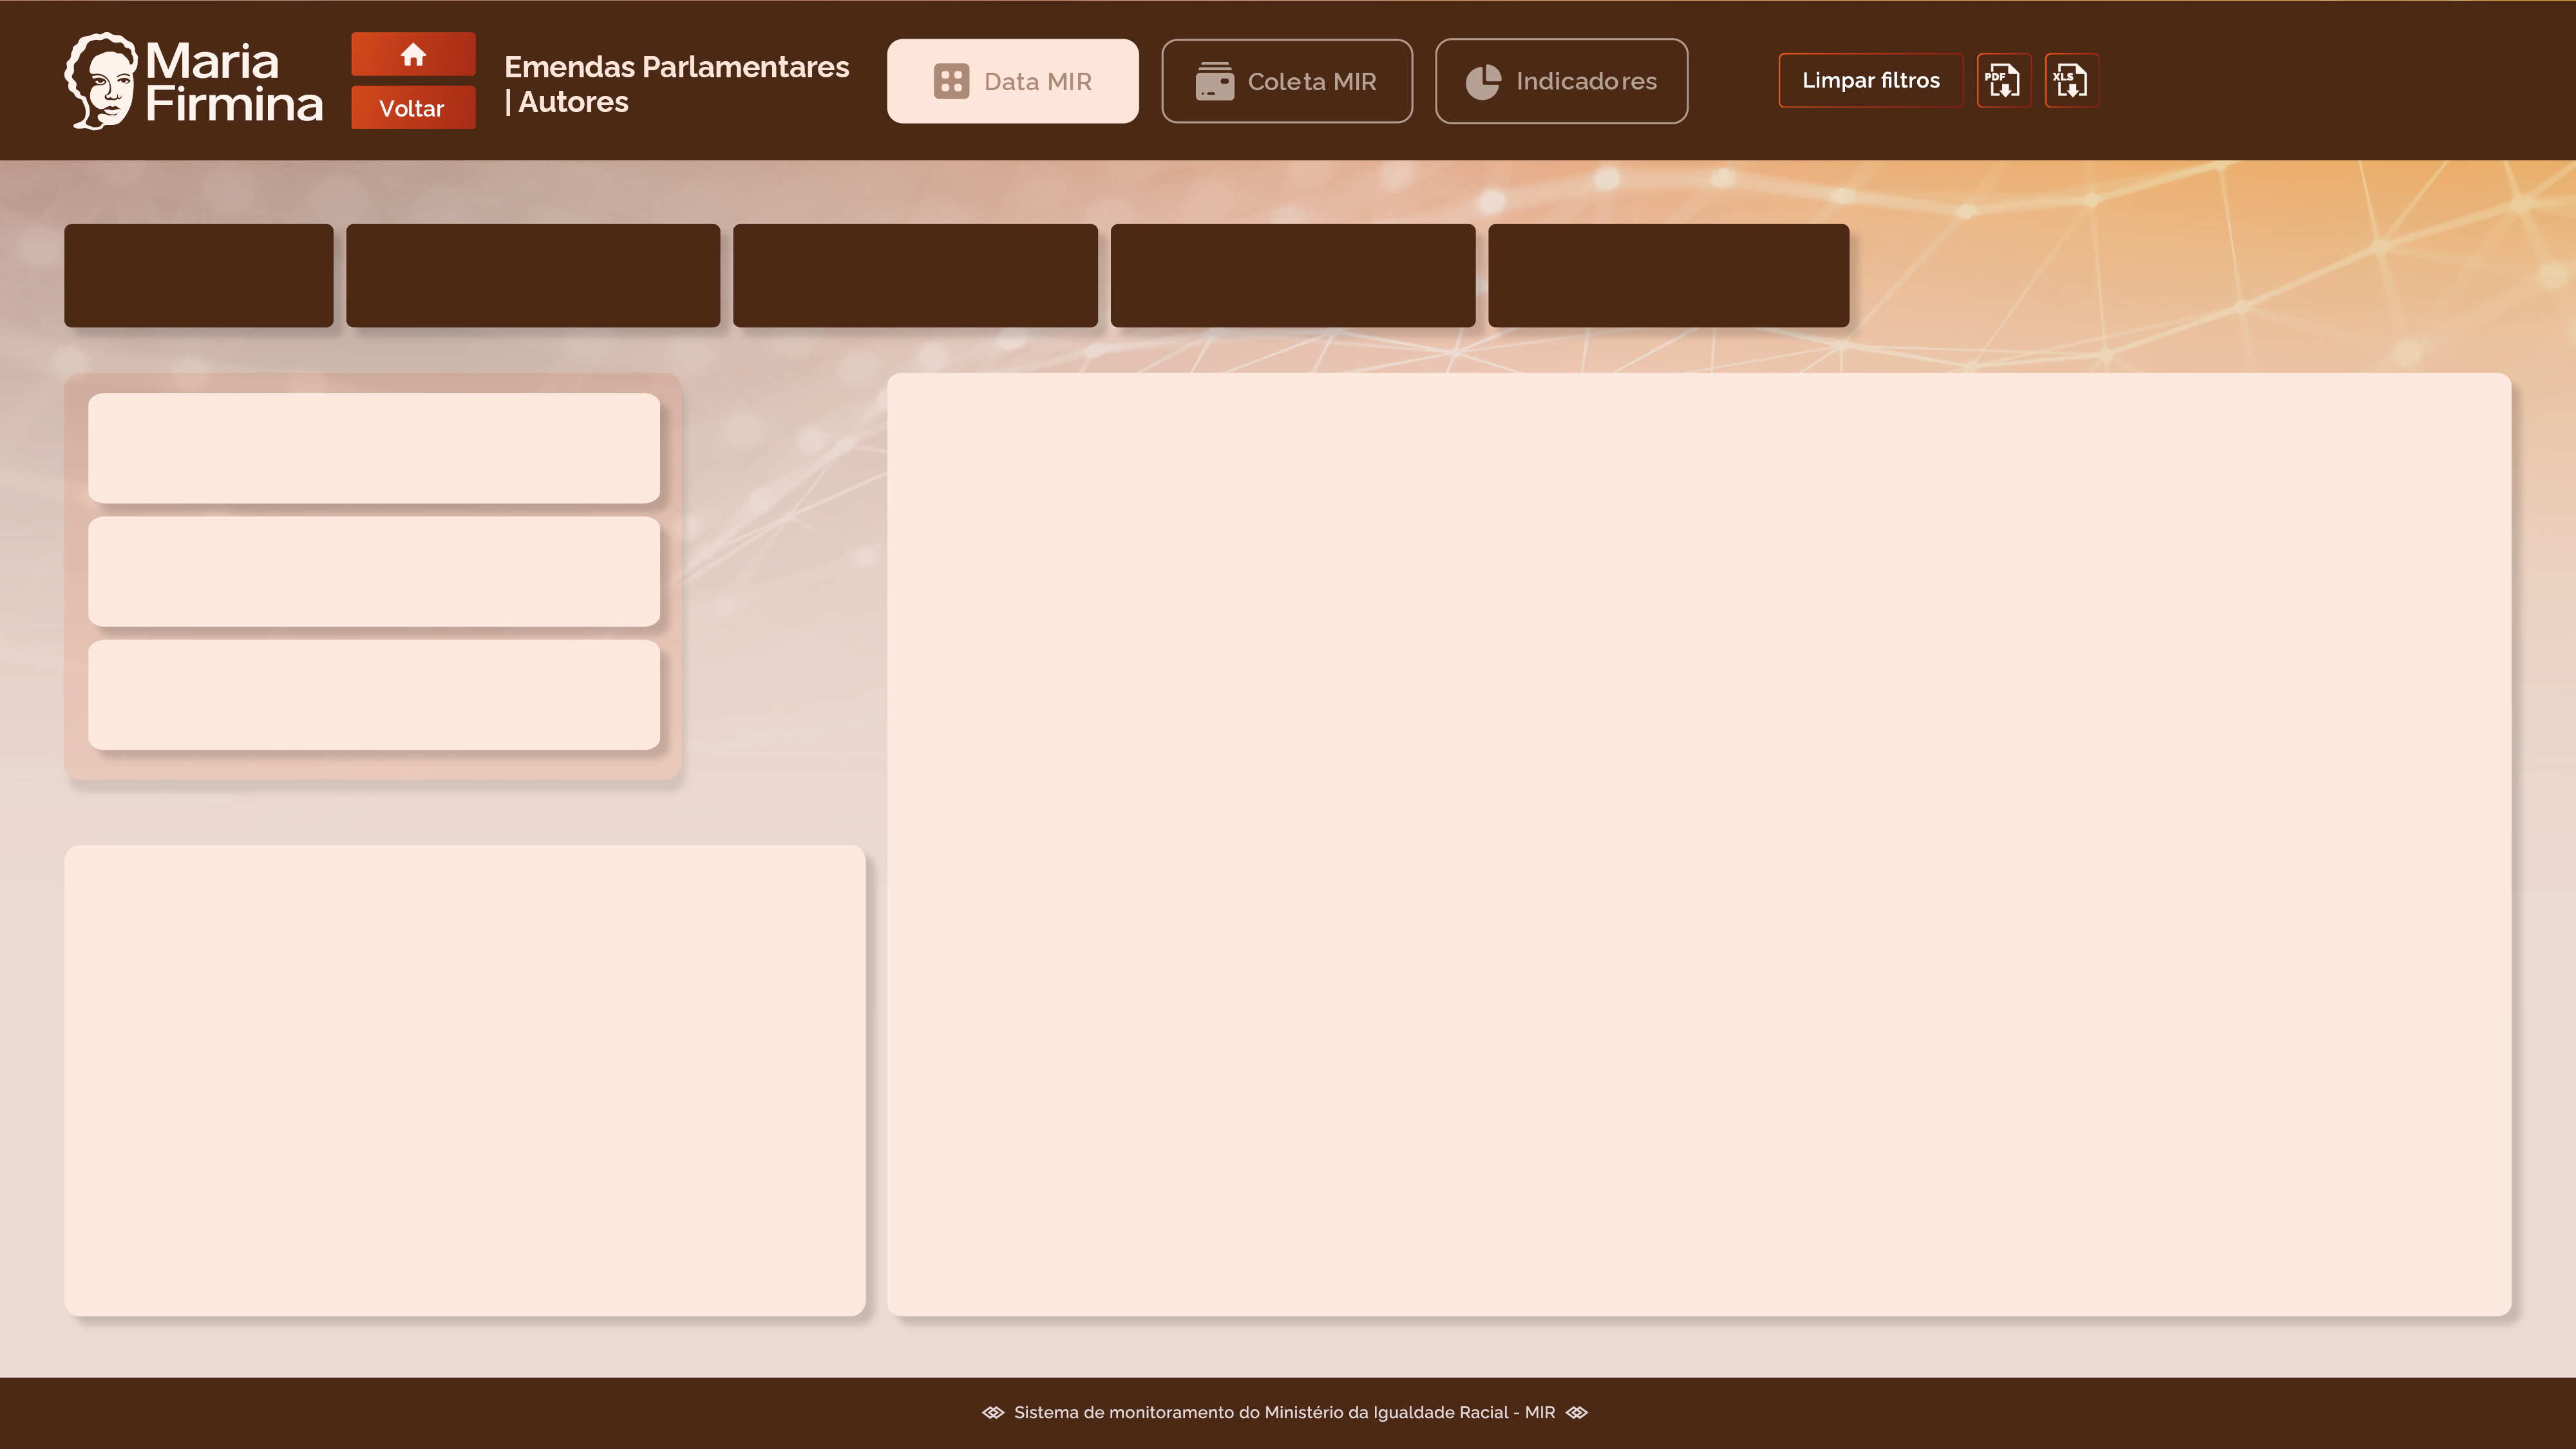

What the dashboard file says about the page in this screenshot:
{"tool":"powerbi","page":{"name":"Emendas Detalhamento","canvas":[1920,1080],"ordinal":7},"visuals":[{"type":"cardVisual","fields":{"Data":["Sum(emendas_execucao.despesas_empenhadas)"]},"box":[437.5,168.5,217.1,72.9],"z":0},{"type":"cardVisual","fields":{"Data":["Sum(emendas_execucao.despesas_liquidadas)"]},"box":[676.1,168.5,207.1,72.9],"z":1000},{"type":"cardVisual","fields":{"Data":["Sum(emendas_execucao.despesas_pagas)"]},"box":[904.6,168.5,210,72.9],"z":2000},{"type":"slicer","fields":{"Values":["emendas_execucao.ne_ccor_ano_emissao"]},"box":[64.3,288.6,301.4,71.4],"z":3000},{"type":"slicer","fields":{"Values":["emendas_execucao.autor_emendas_orcamento_nome"]},"box":[62.9,391.4,302.9,70],"z":4000},{"type":"slicer","fields":{"Values":["emendas_execucao.cargo_autor"]},"box":[62.9,484.3,302.9,68.6],"z":5000},{"type":"slicer","fields":{"Values":["emendas_execucao.codigo+acaoajustada"]},"box":[64.3,192.9,301.4,78.6],"z":6000},{"type":"tableEx","fields":{"Values":["emendas_execucao.ne_ccor_ano_emissao","emendas_execucao.numero_instrumento","emendas_execucao.tipo_instrumento","emendas_execucao.modalidade","emendas_execucao.autor","emendas_execucao.uf_autor","emendas_execucao.partido","Sum(emendas_execucao.dotacao_inicial)","Sum(emendas_execucao.despesas_empenhadas)","Sum(emendas_execucao.despesas_pagas)","emendas_execucao.programa","emendas_execucao.acao_ajustada"]},"box":[435,265,1435,713.8],"z":7000},{"type":"slicer","fields":{"Values":["emendas_execucao.codigo+programa"]},"box":[64.3,678.6,301.4,71.4],"z":8000},{"type":"slicer","fields":{"Values":["emendas_execucao.uf_autor"]},"box":[64.3,767.1,301.4,75.7],"z":9000},{"type":"textbox","box":[0,1917.1,1420,82.9],"z":10000},{"type":"slicer","fields":{"Values":["emendas_execucao.partido"]},"box":[64.3,574.3,301.4,74.3],"z":11000},{"type":"cardVisual","fields":{"Data":["Sum(emendas_execucao.restos_a_pagar_pagos)"]},"box":[1391.8,168.5,264.3,72.9],"z":13000},{"type":"cardVisual","fields":{"Data":["_medidas.Percentual Pago"]},"box":[1136.1,169.9,230,71.4],"z":14000},{"type":"cardVisual","fields":{"Data":["Sum(emendas_execucao.dotacao_inicial)"]},"box":[1676.1,168.5,197.1,72.9],"z":15000},{"type":"slicer","fields":{"Values":["emendas_execucao.tipo_instrumento"]},"box":[64.3,871.4,301.4,75.7],"z":16000},{"type":"actionButton","box":[261.5,62,94.3,32.9],"z":17000},{"type":"actionButton","box":[261.7,22.8,92.2,33.3],"z":18000},{"type":"textbox","box":[1642.6,29.3,167.6,71.8],"z":19000},{"type":"actionButton","box":[1326.7,40.7,137.8,38.9],"z":20000},{"type":"image","box":[1820,42,53.3,37.8],"z":21000},{"type":"actionButton","box":[661.3,28.7,187.3,62.7],"z":22000},{"type":"actionButton","box":[866,28.7,187.3,62.7],"z":23000},{"type":"actionButton","box":[1069.3,30,187.3,62.7],"z":24000},{"type":"pageNavigator","box":[63.8,129.2,540,23.1],"z":25000}]}

Visuals, with their boxes on the page's 1920x1080 design canvas (x1, y1, x2, y2). These are canvas units, not pixel positions in the 2576x1449 screenshot, which may show the page scaled, cropped or inside an application window:
cardVisual - Sum(emendas_execucao.despesas_empenhadas): <bbox>438, 168, 655, 241</bbox>
cardVisual - Sum(emendas_execucao.despesas_liquidadas): <bbox>676, 168, 883, 241</bbox>
cardVisual - Sum(emendas_execucao.despesas_pagas): <bbox>905, 168, 1115, 241</bbox>
slicer - emendas_execucao.ne_ccor_ano_emissao: <bbox>64, 289, 366, 360</bbox>
slicer - emendas_execucao.autor_emendas_orcamento_nome: <bbox>63, 391, 366, 461</bbox>
slicer - emendas_execucao.cargo_autor: <bbox>63, 484, 366, 553</bbox>
slicer - emendas_execucao.codigo+acaoajustada: <bbox>64, 193, 366, 272</bbox>
tableEx - emendas_execucao.ne_ccor_ano_emissao x emendas_execucao.numero_instrumento: <bbox>435, 265, 1870, 979</bbox>
slicer - emendas_execucao.codigo+programa: <bbox>64, 679, 366, 750</bbox>
slicer - emendas_execucao.uf_autor: <bbox>64, 767, 366, 843</bbox>
textbox: <bbox>0, 1917, 1420, 2000</bbox>
slicer - emendas_execucao.partido: <bbox>64, 574, 366, 649</bbox>
cardVisual - Sum(emendas_execucao.restos_a_pagar_pagos): <bbox>1392, 168, 1656, 241</bbox>
cardVisual - _medidas.Percentual Pago: <bbox>1136, 170, 1366, 241</bbox>
cardVisual - Sum(emendas_execucao.dotacao_inicial): <bbox>1676, 168, 1873, 241</bbox>
slicer - emendas_execucao.tipo_instrumento: <bbox>64, 871, 366, 947</bbox>
actionButton: <bbox>262, 62, 356, 95</bbox>
actionButton: <bbox>262, 23, 354, 56</bbox>
textbox: <bbox>1643, 29, 1810, 101</bbox>
actionButton: <bbox>1327, 41, 1464, 80</bbox>
image: <bbox>1820, 42, 1873, 80</bbox>
actionButton: <bbox>661, 29, 849, 91</bbox>
actionButton: <bbox>866, 29, 1053, 91</bbox>
actionButton: <bbox>1069, 30, 1257, 93</bbox>
pageNavigator: <bbox>64, 129, 604, 152</bbox>
